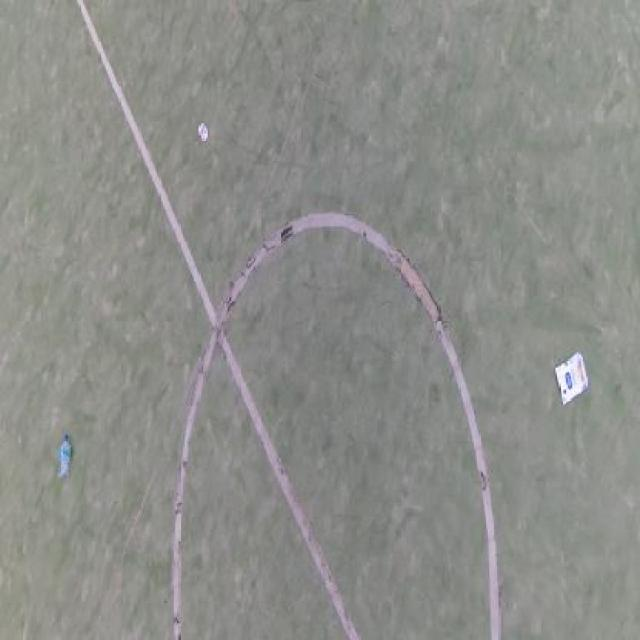Garbage: (555, 351, 588, 408), (59, 435, 72, 481), (197, 122, 207, 143)
